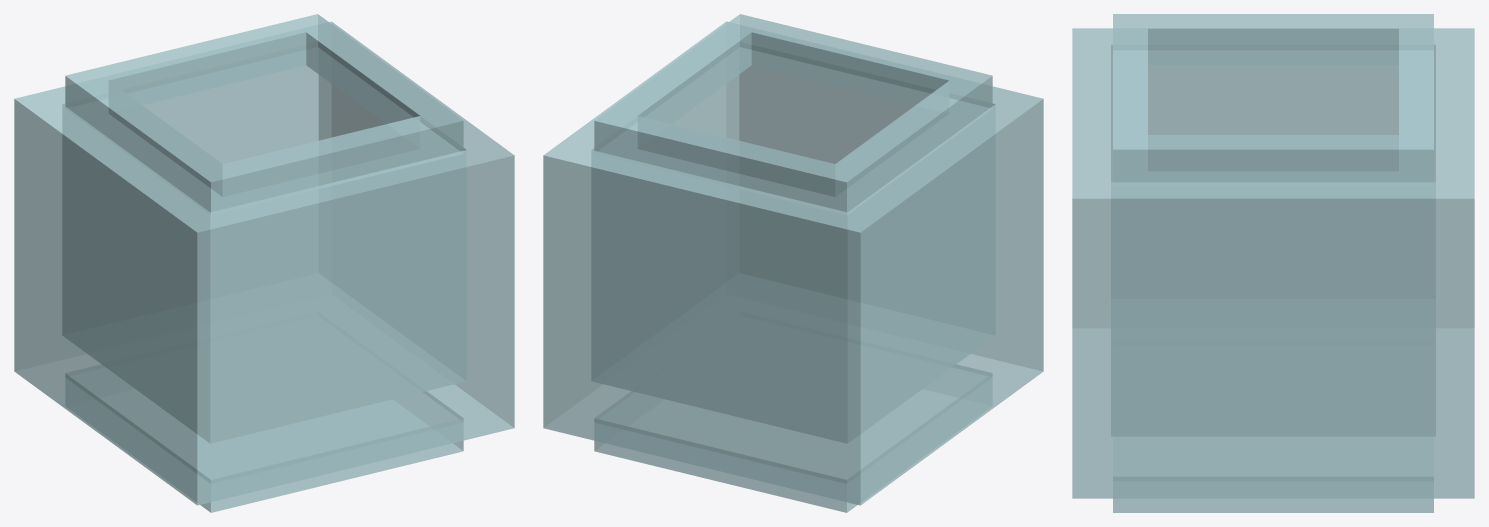
The model's file is pecera.fbx.
The picture shows the model from 3 angles, left to right: view 1: azimuth 30°, elevation 25°; view 2: azimuth 150°, elevation 25°; view 3: azimuth 270°, elevation 25°; orthographic projection. The views are drawn at different scales.
Parts seen in each view (by area): view 1: Cube.001; view 2: Cube.001; view 3: Cube.001.
Boxes of the visible parts, <box> form: Cube.001: <box>14,14,514,512</box>; Cube.001: <box>543,14,1043,512</box>; Cube.001: <box>1072,14,1474,512</box>.
Size of the model in its own units: 1004 by 1000 by 1004.
